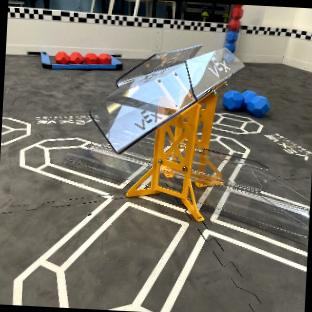V5_BLUE: (222, 89, 269, 116)
V5_RED: (90, 45, 242, 152)
